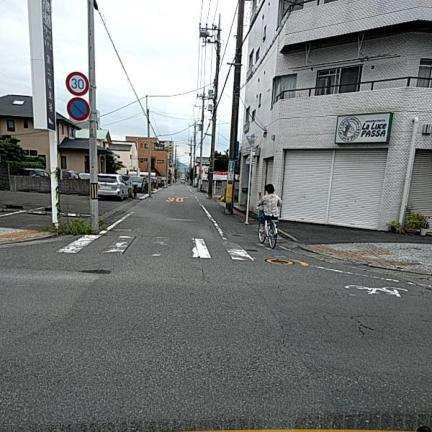Road: (0, 185, 431, 430)
